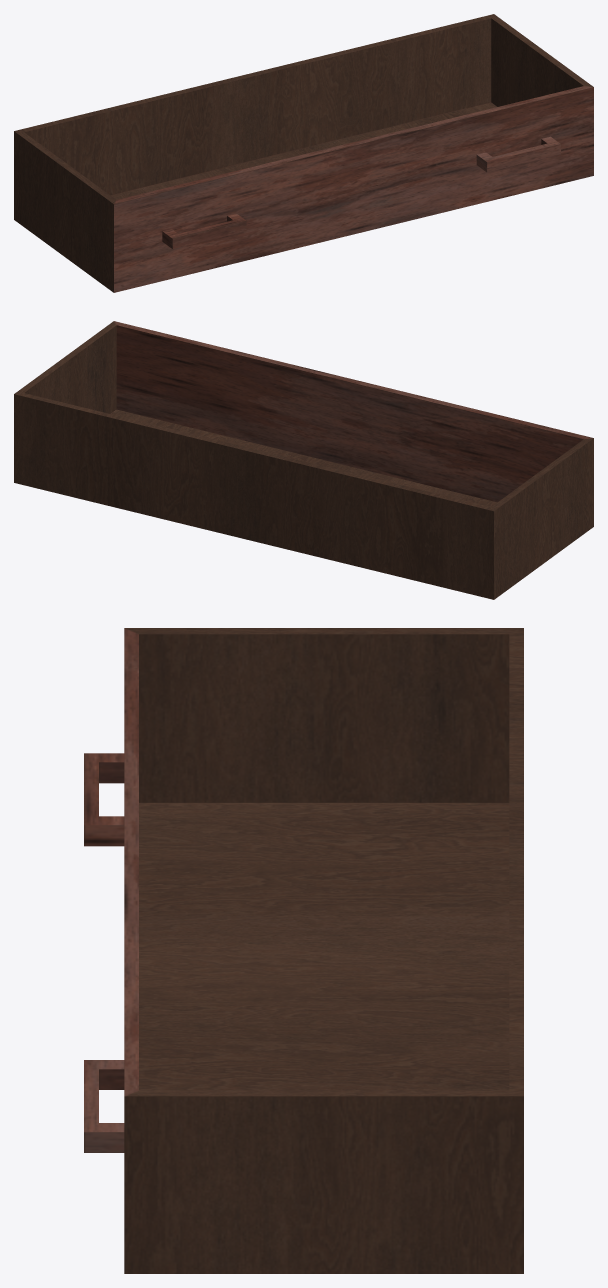
File: BigDrawer.fbx
3 renders of one model, top to bottom at view 1: azimuth 30°, elevation 25°; view 2: azimuth 150°, elevation 25°; view 3: azimuth 270°, elevation 25°, orthographic. The views are drawn at different scales.
Parts seen in each view (by area): view 1: DrawerLarge_Baked; view 2: DrawerLarge_Baked; view 3: DrawerLarge_Baked.
Boxes of the visible parts, left/top/right/bottom form: DrawerLarge_Baked: left=14, top=14, right=593, bottom=292; DrawerLarge_Baked: left=14, top=321, right=593, bottom=599; DrawerLarge_Baked: left=84, top=628, right=523, bottom=1273.
Size of the model in its own units: 151 by 26.62 by 59.87.
Materials: 1 (1 with a texture image).
